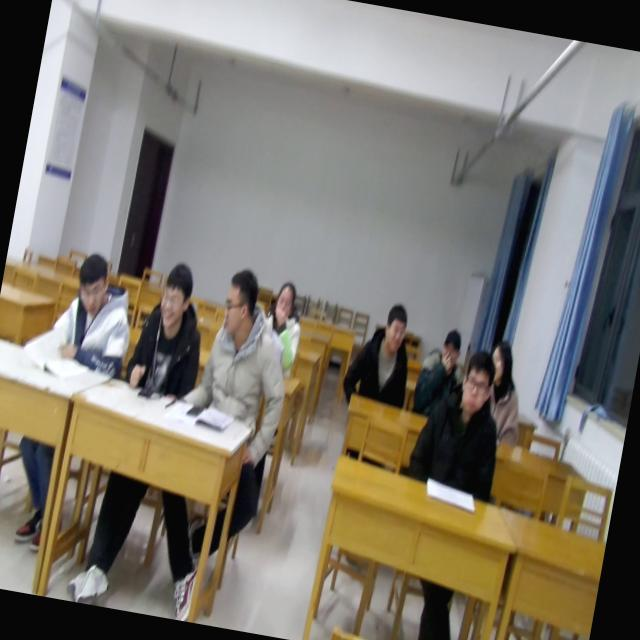down: (66, 246, 116, 320)
lookup: (454, 346, 502, 426), (154, 256, 198, 331), (379, 296, 411, 357), (268, 272, 300, 328), (432, 322, 466, 372)
sit: (177, 258, 307, 430), (402, 340, 516, 502), (32, 245, 142, 381), (120, 255, 218, 402), (339, 294, 421, 408), (476, 336, 536, 446), (409, 323, 473, 422), (253, 276, 310, 384)
